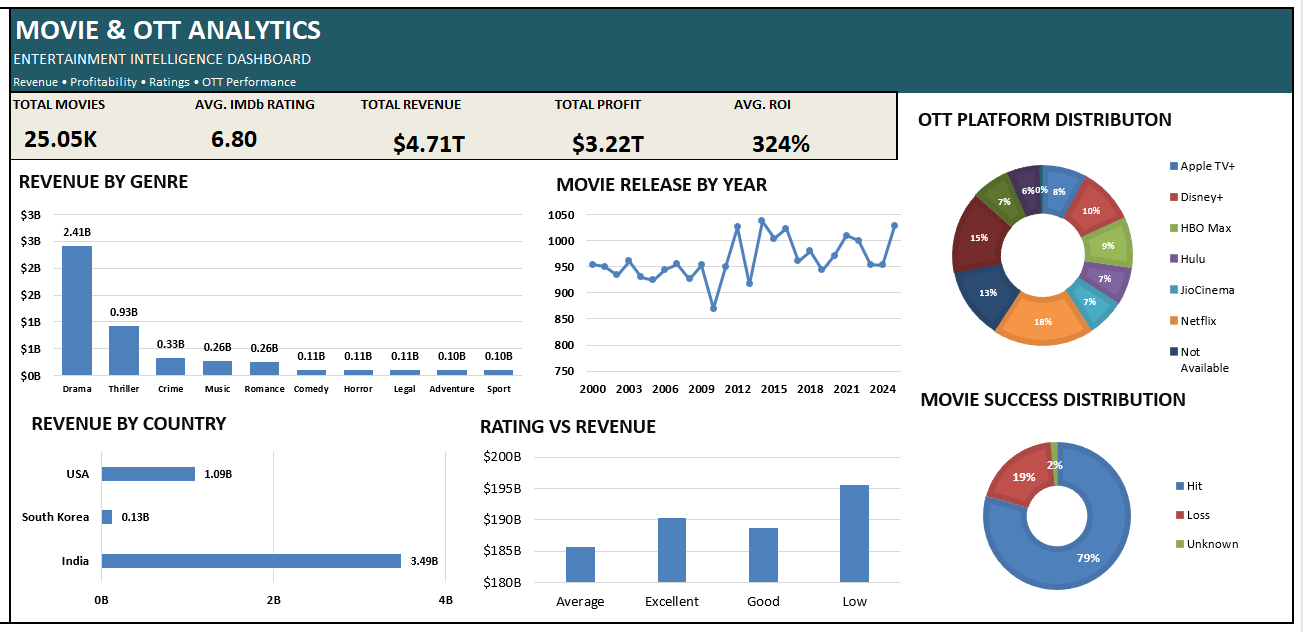

This screenshot's page, from the dashboard's own definition file:
{"tool":"powerbi","page":{"name":"Executive Dashboard","canvas":[1920,1080],"ordinal":0},"visuals":[{"type":"shape","box":[0,0,261.9,1079.9],"z":0},{"type":"textbox","box":[261.9,147,13.5,932.8],"z":1000},{"type":"textbox","box":[65.9,22,196,125.1],"z":2000},{"type":"shape","box":[261.7,0,1656.7,146.7],"z":3000},{"type":"textbox","box":[0,22,131.8,99.7],"z":4000},{"type":"textbox","box":[276,12,544.2,62.5],"z":5000},{"type":"textbox","box":[276,68,1620.6,36],"z":6000},{"type":"textbox","box":[275.5,107,1644.3,37.2],"z":7000},{"type":"columnChart","title":"🎬 Revenue by Genre","fields":{"Y":["Sum(Movies.Revenue_USD)"],"Category":["Movies.Sub_Genre"]},"box":[268.3,305,648.3,333.3],"z":8000},{"type":"donutChart","title":"📺Revenue by Genre","fields":{"Y":["CountNonNull(Movies.Movie_ID)"],"Category":["Movies.OTT_Platform"]},"box":[1398.6,640,511.7,346.7],"z":9000},{"type":"lineChart","title":"📅Movie Releases by Year","fields":{"Category":["Movies.Release_Year"],"Y":["CountNonNull(Movies.Movie_ID)"]},"box":[915,305,598.3,331.7],"z":10000},{"type":"barChart","title":"🌏 Revenue by Country","fields":{"Category":["Movies.Country"],"Y":["CountNonNull(Movies.Movie_ID)"]},"box":[268.3,640,470,346],"z":11000},{"type":"lineStackedColumnComboChart","title":"⭐ Rating vs Revenue","fields":{"Y":["Sum(Movies.Revenue_USD)"],"Category":["Movies.Rating_Category"],"Y2":["CountNonNull(Movies.IMDb_Rating)"]},"box":[738.3,640,660,346.7],"z":12000},{"type":"donutChart","title":"🏆 Movie Success Distribution","fields":{"Y":["CountNonNull(Movies.Movie_ID)"],"Category":["Movies.Success_category"]},"box":[1455,305,455,331.7],"z":13000},{"type":"cardVisual","fields":{"Data":["Movies.totsl movies","Movies.avg imdb","Movies.total_revenue","Movies.total profit","Movies.avg  ROI"]},"box":[268.3,146.7,1641.7,155],"z":14000},{"type":"textbox","box":[268.6,178.6,1648.6,87.1],"z":15000},{"type":"textbox","box":[0,104.3,261.4,21.4],"z":16000},{"type":"shape","title":"fILTERS","box":[5.7,167.1,252.9,55.7],"z":17000},{"type":"actionButton","box":[164.3,171.4,94.3,50],"z":18000},{"type":"textbox","box":[17.1,181.4,147.1,30],"z":19000},{"type":"slicer","fields":{"Values":["Movies.Release_Year"]},"box":[11.4,265.7,241.4,72.9],"z":20000},{"type":"slicer","fields":{"Values":["Movies.Sub_Genre"]},"box":[11.4,338.6,241.4,72.9],"z":21000},{"type":"slicer","fields":{"Values":["Movies.Language"]},"box":[11.4,411.4,241.4,72.9],"z":22000},{"type":"slicer","fields":{"Values":["Movies.Country"]},"box":[11.4,484.3,241.4,61.4],"z":23000},{"type":"slicer","fields":{"Values":["Movies.OTT_Platform"]},"box":[11.4,552.9,241.4,74.3],"z":24000},{"type":"slicer","fields":{"Values":["Movies.Rating_Category"]},"box":[12.9,628.6,241.4,74.3],"z":25000},{"type":"slicer","fields":{"Values":["Movies.Success_category"]},"box":[14.3,702.9,241.4,74.3],"z":26000},{"type":"image","box":[778.3,0,393.3,143.3],"z":27000},{"type":"shape","box":[268.3,986.7,1641.7,91],"z":28000},{"type":"textbox","box":[268.9,1008.9,50,68.9],"z":29000},{"type":"textbox","box":[384.3,1011.4,231.4,65.7],"z":30000},{"type":"textbox","box":[280,989,142.2,22.2],"z":31000},{"type":"textbox","box":[672.9,1011.4,224.3,65.7],"z":32000},{"type":"textbox","box":[960,1008.6,254.3,68.6],"z":33000},{"type":"image","box":[0,777.8,254.4,281.1],"z":34000},{"type":"textbox","box":[1277.1,1008.6,252.9,68.6],"z":35000},{"type":"textbox","box":[100,305.6,625.6,240],"z":36000},{"type":"textbox","box":[1602.9,1008.6,291.4,68.6],"z":36001},{"type":"textbox","box":[334.3,1011.4,1320,65.7],"z":36002}]}

Visuals, with their boxes on the page's 1920x1080 design canvas (x1, y1, x2, y2). These are canvas units, not pixel positions in the 1303x632 screenshot, which may show the page scaled, cropped or inside an application window:
shape: left=0, top=0, right=262, bottom=1080
textbox: left=262, top=147, right=275, bottom=1080
textbox: left=66, top=22, right=262, bottom=147
shape: left=262, top=0, right=1918, bottom=147
textbox: left=0, top=22, right=132, bottom=122
textbox: left=276, top=12, right=820, bottom=74
textbox: left=276, top=68, right=1897, bottom=104
textbox: left=276, top=107, right=1920, bottom=144
"🎬 Revenue by Genre" columnChart: left=268, top=305, right=917, bottom=638
"📺Revenue by Genre" donutChart: left=1399, top=640, right=1910, bottom=987
"📅Movie Releases by Year" lineChart: left=915, top=305, right=1513, bottom=637
"🌏 Revenue by Country" barChart: left=268, top=640, right=738, bottom=986
"⭐ Rating vs Revenue" lineStackedColumnComboChart: left=738, top=640, right=1398, bottom=987
"🏆 Movie Success Distribution" donutChart: left=1455, top=305, right=1910, bottom=637
cardVisual - Movies.totsl movies x Movies.avg imdb: left=268, top=147, right=1910, bottom=302
textbox: left=269, top=179, right=1917, bottom=266
textbox: left=0, top=104, right=261, bottom=126
"fILTERS" shape: left=6, top=167, right=259, bottom=223
actionButton: left=164, top=171, right=259, bottom=221
textbox: left=17, top=181, right=164, bottom=211
slicer - Movies.Release_Year: left=11, top=266, right=253, bottom=339
slicer - Movies.Sub_Genre: left=11, top=339, right=253, bottom=412
slicer - Movies.Language: left=11, top=411, right=253, bottom=484
slicer - Movies.Country: left=11, top=484, right=253, bottom=546
slicer - Movies.OTT_Platform: left=11, top=553, right=253, bottom=627
slicer - Movies.Rating_Category: left=13, top=629, right=254, bottom=703
slicer - Movies.Success_category: left=14, top=703, right=256, bottom=777
image: left=778, top=0, right=1172, bottom=143
shape: left=268, top=987, right=1910, bottom=1078
textbox: left=269, top=1009, right=319, bottom=1078
textbox: left=384, top=1011, right=616, bottom=1077
textbox: left=280, top=989, right=422, bottom=1011
textbox: left=673, top=1011, right=897, bottom=1077
textbox: left=960, top=1009, right=1214, bottom=1077
image: left=0, top=778, right=254, bottom=1059
textbox: left=1277, top=1009, right=1530, bottom=1077
textbox: left=100, top=306, right=726, bottom=546
textbox: left=1603, top=1009, right=1894, bottom=1077
textbox: left=334, top=1011, right=1654, bottom=1077
